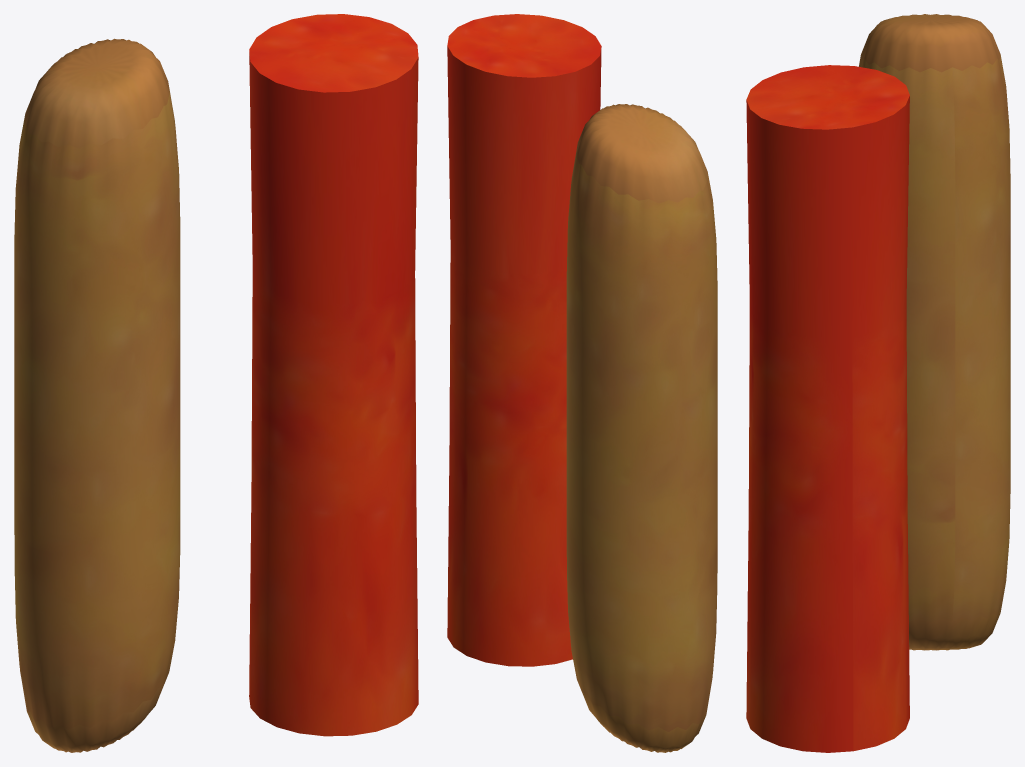
Rendered from topoki.fbx.
3 views of the same model, side by side, from view 1: azimuth 30°, elevation 25°; view 2: azimuth 150°, elevation 25°; view 3: azimuth 270°, elevation 25° (orthographic). The views are drawn at different scales.
Visible parts, largest first — view 1: pCylinder2, pCylinder1; view 2: pCylinder1, pCylinder2; view 3: pCylinder2, pCylinder1.
Part boxes in pixels (x1,y1,x2,y2): pCylinder2: (249,14,418,736); pCylinder1: (14,38,180,752); pCylinder1: (566,104,717,752); pCylinder2: (447,14,601,666); pCylinder2: (746,65,909,752); pCylinder1: (859,14,1010,650).
Size of the model in its own units: 1.81 by 3.57 by 1.31.
2 materials, 2 textured.
